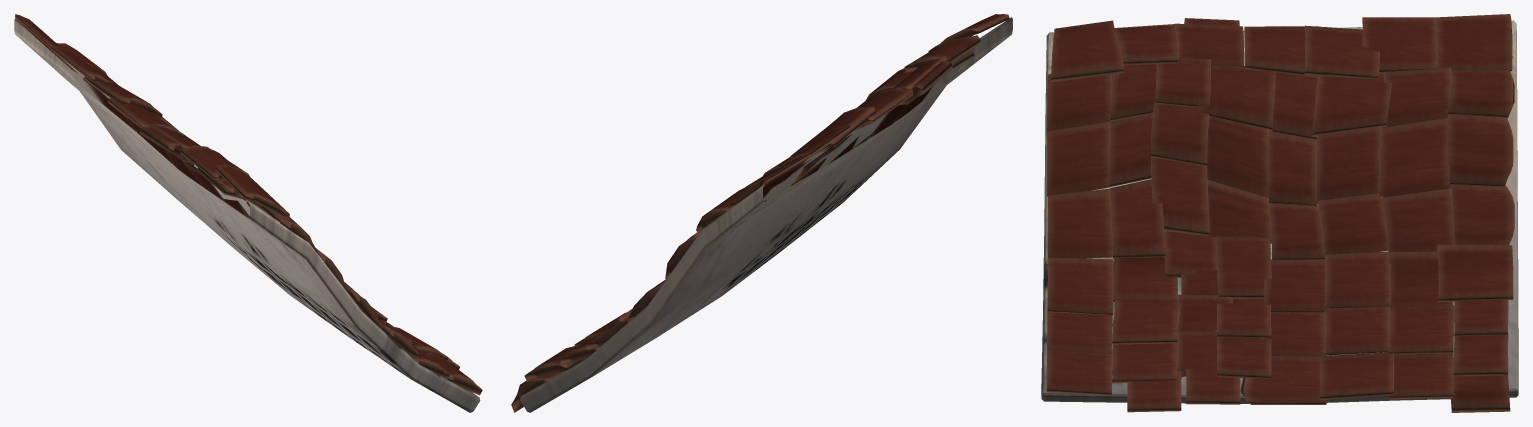
File: HalfRoof_V1.fbx
The picture shows the model from 3 angles, left to right: view 1: azimuth 30°, elevation 25°; view 2: azimuth 150°, elevation 25°; view 3: azimuth 270°, elevation 25°; orthographic projection. The views are drawn at different scales.
Parts seen in each view (by area): view 1: Roof_Tile1.007; view 2: Roof_Tile1.007; view 3: Roof_Tile1.007.
Boxes of the visible parts, x1,y1,x2,y2 form: Roof_Tile1.007: (14, 14, 482, 412); Roof_Tile1.007: (511, 14, 1012, 412); Roof_Tile1.007: (1041, 14, 1518, 412).
Size of the model in its own units: 270 by 277 by 425.
